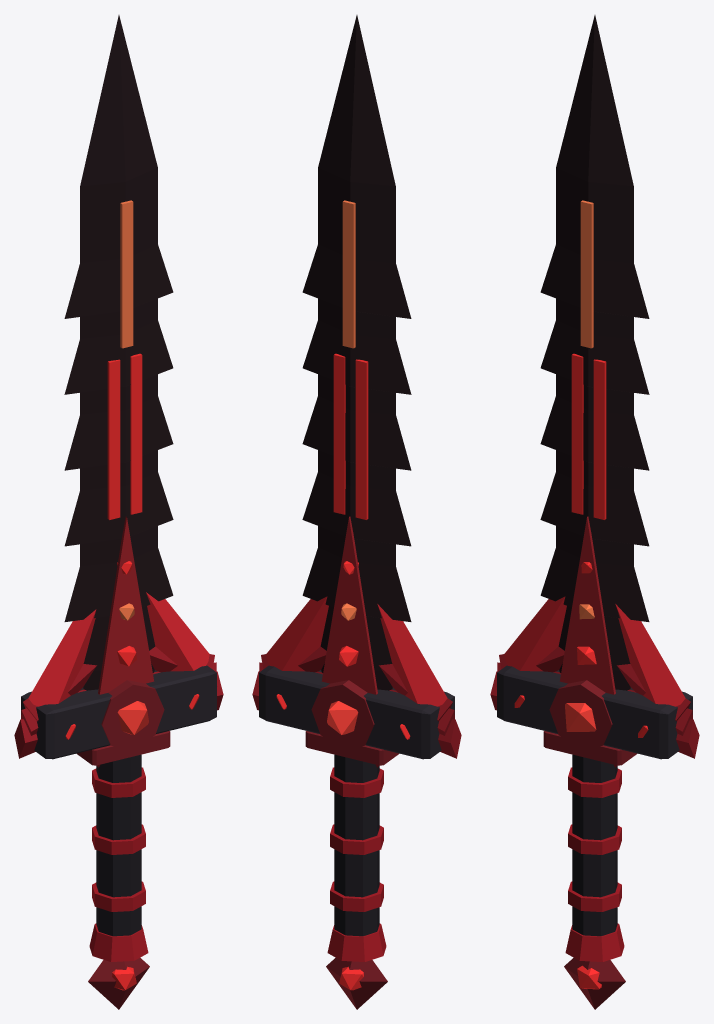
File: Sword_Phase5.fbx
The picture shows the model from 3 angles, left to right: view 1: azimuth 30°, elevation 25°; view 2: azimuth 150°, elevation 25°; view 3: azimuth 330°, elevation 25°; orthographic projection.
Parts seen in each view (by area): view 1: Sword_Phase5_Blade, Sword_Phase5_Guard, Sword_Phase5_Grip, Sword_Phase5_Horn, Sword_Phase5_Glow, Sword_Phase5_Trim, Sword_Phase5_Inlay, Sword_Phase5_Band, Sword_Phase5_GlowHot, Sword_Phase5_Wing, Sword_Phase5_Eye; view 2: Sword_Phase5_Blade, Sword_Phase5_Guard, Sword_Phase5_Grip, Sword_Phase5_Horn, Sword_Phase5_Glow, Sword_Phase5_Trim, Sword_Phase5_Inlay, Sword_Phase5_Band, Sword_Phase5_GlowHot, Sword_Phase5_Wing, Sword_Phase5_Eye; view 3: Sword_Phase5_Blade, Sword_Phase5_Guard, Sword_Phase5_Grip, Sword_Phase5_Horn, Sword_Phase5_Glow, Sword_Phase5_Trim, Sword_Phase5_Inlay, Sword_Phase5_Band, Sword_Phase5_GlowHot, Sword_Phase5_Wing, Sword_Phase5_Eye.
Part boxes in pixels (x1,y1,x2,y2): Sword_Phase5_Blade: (64,15,173,690); Sword_Phase5_Guard: (21,665,216,759); Sword_Phase5_Grip: (96,754,141,936); Sword_Phase5_Horn: (28,592,209,706); Sword_Phase5_Glow: (65,353,199,990); Sword_Phase5_Trim: (77,680,170,1009); Sword_Phase5_Inlay: (98,516,154,694); Sword_Phase5_Band: (89,767,148,961); Sword_Phase5_GlowHot: (119,200,134,620); Sword_Phase5_Wing: (14,646,223,767); Sword_Phase5_Eye: (117,701,148,734); Sword_Phase5_Blade: (302,15,411,690); Sword_Phase5_Guard: (259,665,454,759); Sword_Phase5_Grip: (334,754,379,936); Sword_Phase5_Horn: (266,596,447,706); Sword_Phase5_Glow: (276,353,410,990); Sword_Phase5_Trim: (305,680,398,1009); Sword_Phase5_Inlay: (321,516,377,694); Sword_Phase5_Band: (327,767,386,961); Sword_Phase5_GlowHot: (341,200,356,620); Sword_Phase5_Wing: (252,646,461,767); Sword_Phase5_Eye: (327,701,358,734); Sword_Phase5_Blade: (540,15,649,690); Sword_Phase5_Guard: (497,665,692,759); Sword_Phase5_Grip: (572,754,617,936); Sword_Phase5_Horn: (504,596,685,706); Sword_Phase5_Glow: (514,353,648,989); Sword_Phase5_Trim: (543,680,636,1009); Sword_Phase5_Inlay: (559,516,615,694); Sword_Phase5_Band: (565,767,624,961); Sword_Phase5_GlowHot: (579,200,594,619); Sword_Phase5_Wing: (490,646,699,767); Sword_Phase5_Eye: (565,703,596,731).
Size of the model in its own units: 1.28 by 6.11 by 0.4849.
